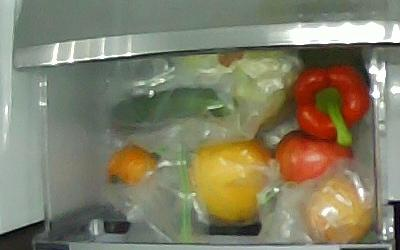apple: (273, 128, 356, 182)
cucumber_vinyl: (108, 86, 243, 134)
grapefruit_vinyl: (188, 139, 276, 221)
lettuce_vinyl: (173, 50, 295, 118)
paprika: (294, 66, 367, 144)
peach_vinyl: (301, 171, 371, 243)
persimmon_vinyl: (106, 146, 160, 188)
